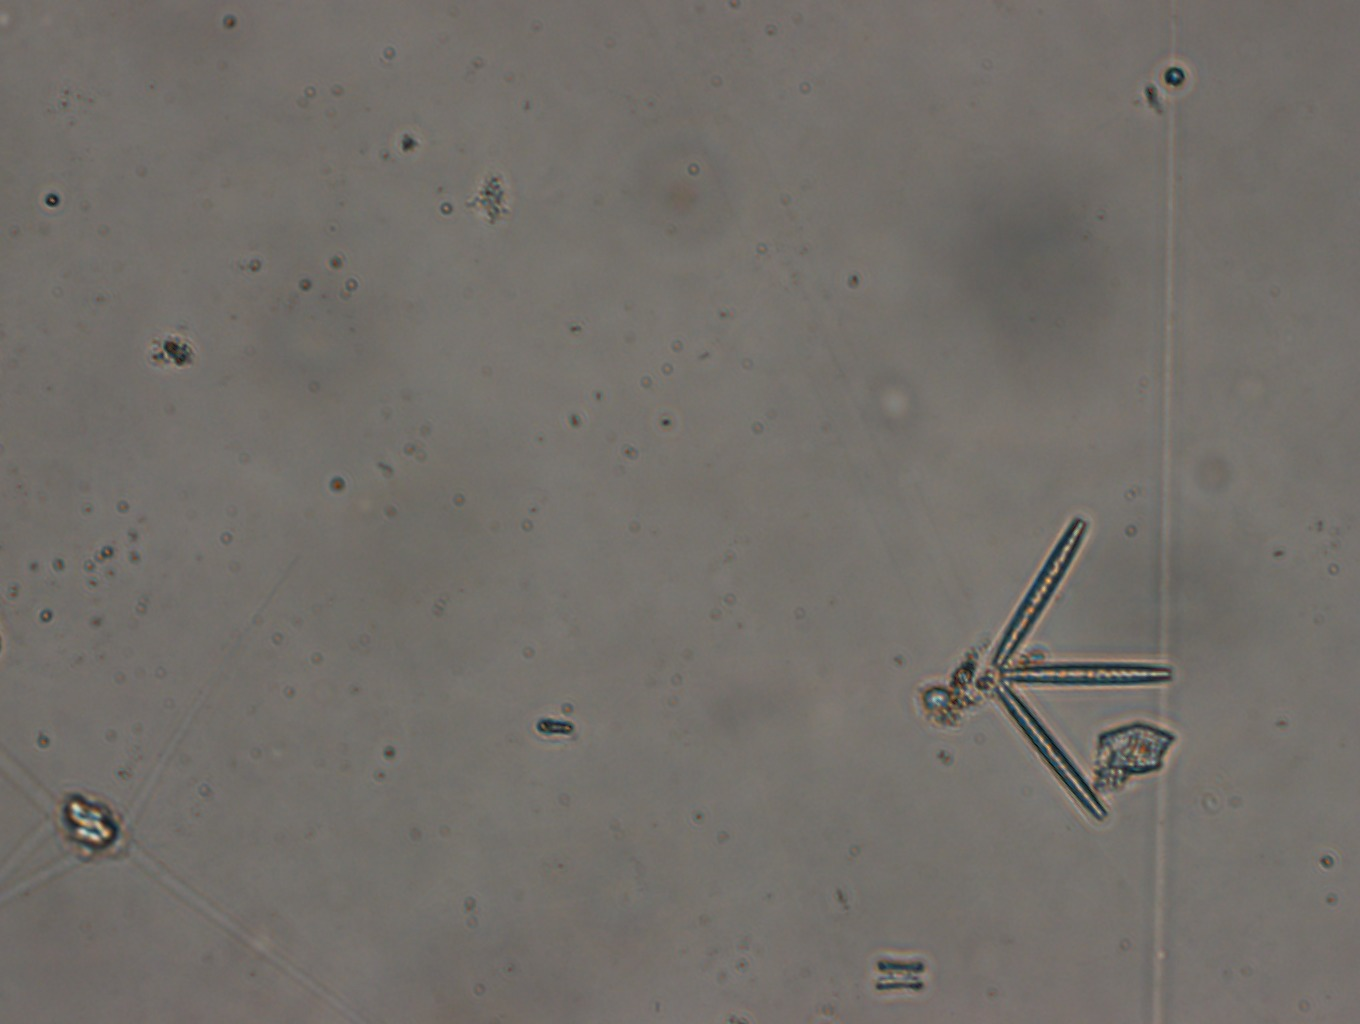thalassionema nitzschioides: (987, 514, 1174, 824)
